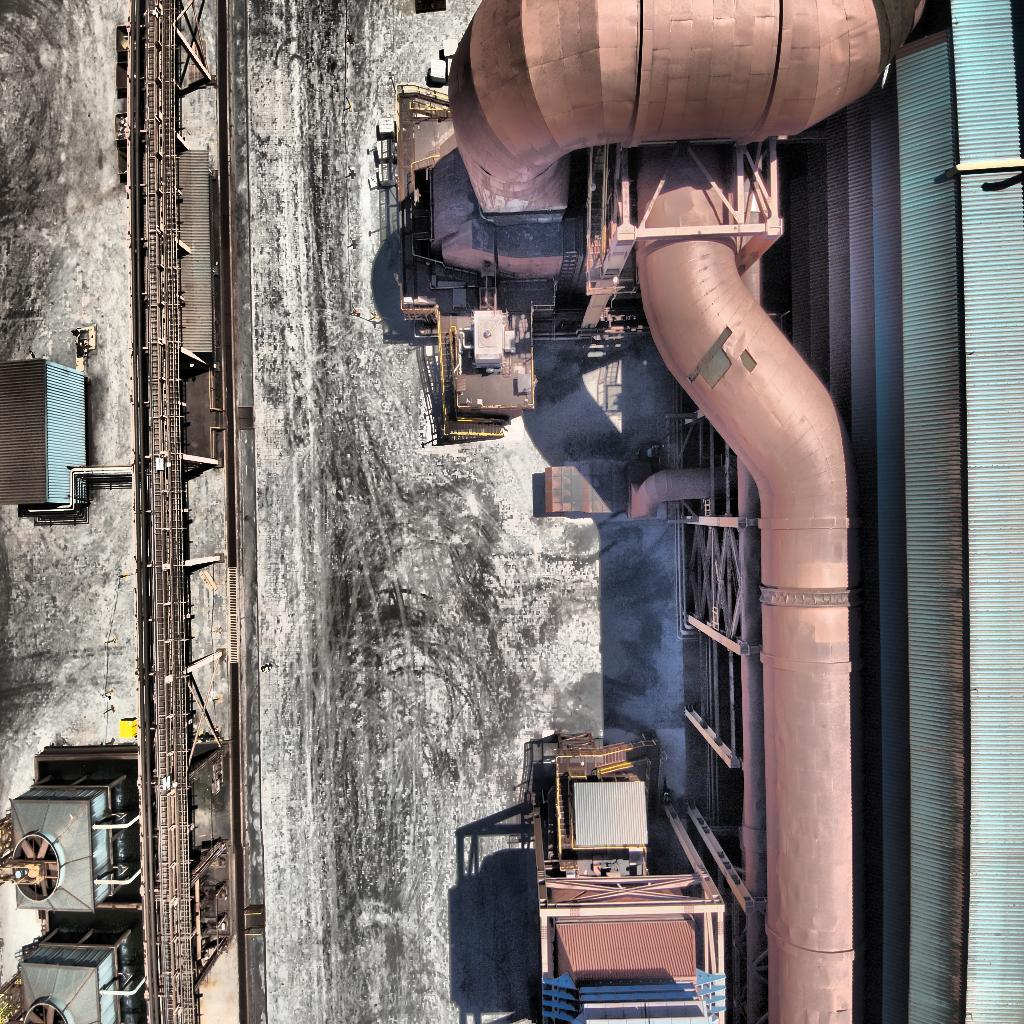Failures: (871, 1, 914, 71), (688, 327, 738, 385), (740, 347, 758, 377)
